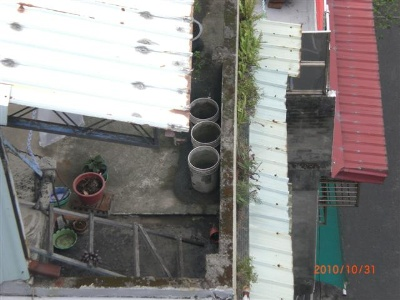bowl: (73, 172, 105, 205), (51, 227, 78, 250), (49, 186, 72, 206)
bucket: (186, 145, 220, 193), (189, 120, 220, 148), (189, 97, 220, 125)
